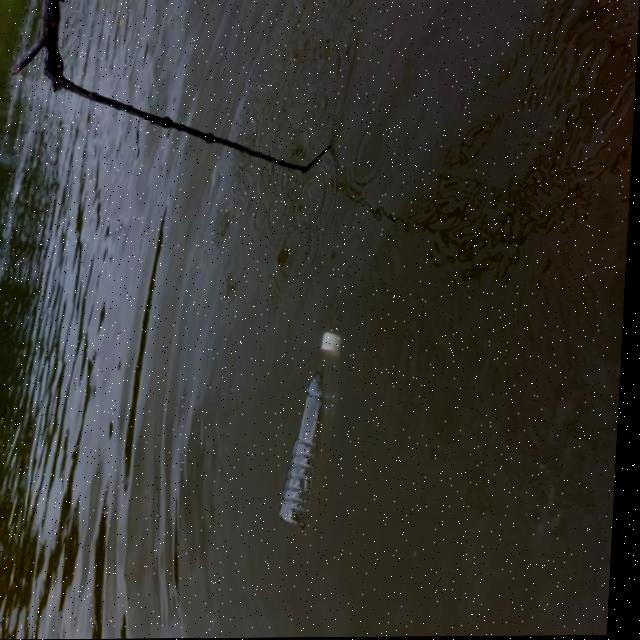waterbottle: (280, 319, 354, 546)
